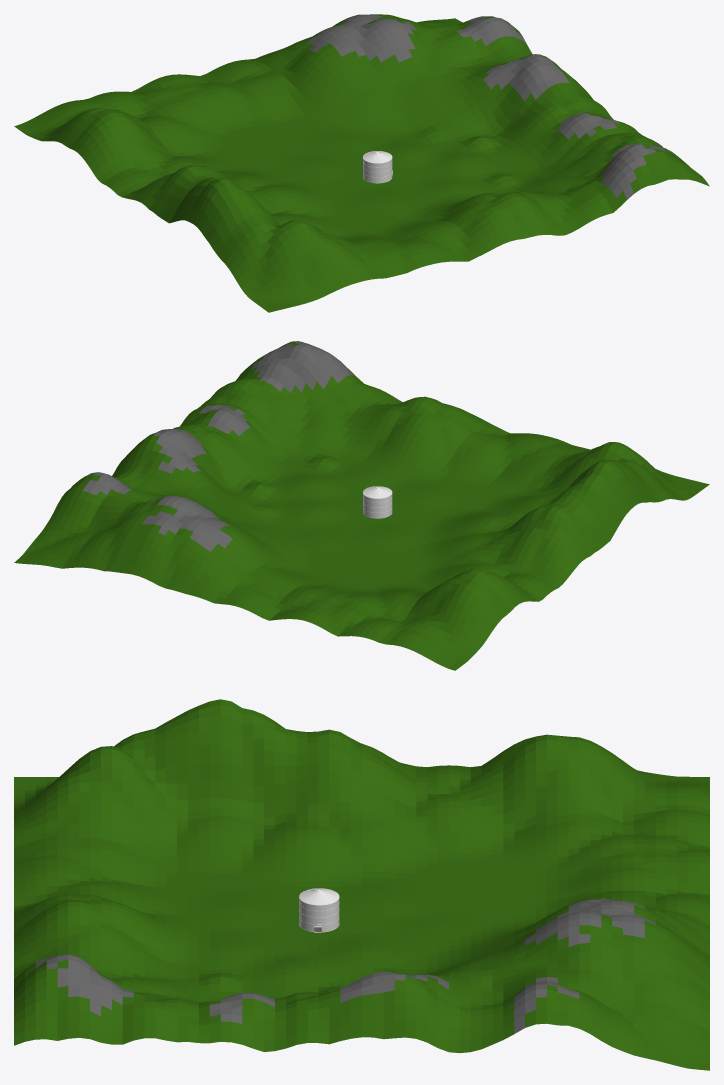
File: TL_EndPart.fbx
The picture shows the model from 3 angles, top to bottom: view 1: azimuth 30°, elevation 25°; view 2: azimuth 150°, elevation 25°; view 3: azimuth 270°, elevation 25°; orthographic projection. The views are drawn at different scales.
Parts seen in each view (by area): view 1: Gelände, Gebäude; view 2: Gelände, Gebäude; view 3: Gelände, Gebäude.
Boxes of the visible parts, <box> form: Gelände: <box>14,14,709,312</box>; Gebäude: <box>363,151,392,183</box>; Gelände: <box>14,341,709,670</box>; Gebäude: <box>363,486,392,518</box>; Gelände: <box>14,699,709,1070</box>; Gebäude: <box>299,888,339,932</box>.
Bounding box in the file's own units: 52082 × 9683 × 52082.
